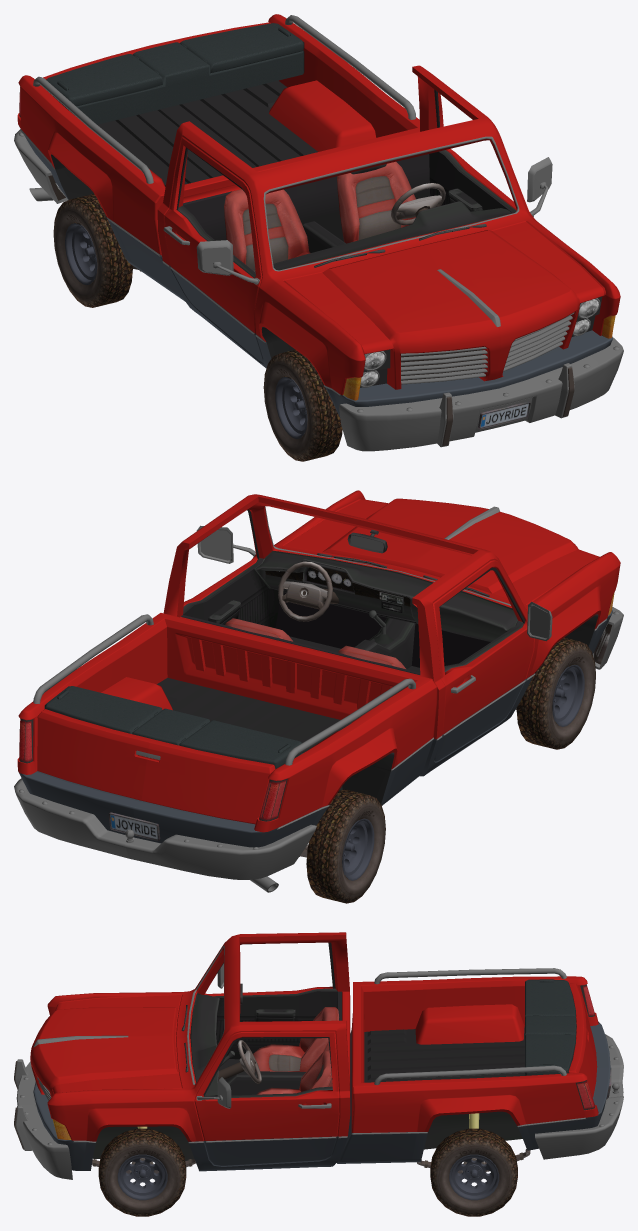
The model's file is offroad0.glb.
3 renders of one model, top to bottom at view 1: azimuth 30°, elevation 25°; view 2: azimuth 150°, elevation 25°; view 3: azimuth 270°, elevation 25°, orthographic. The views are drawn at different scales.
Visible parts, largest first — view 1: node_id912, node_id914, node_id928, node_id887, node_id916, node_id901, node_id910, node_id879, node_id872, node_id874, node_id881, node_id870 (+11 smaller); view 2: node_id912, node_id914, node_id916, node_id892, node_id928, node_id879, node_id872, node_id903, node_id874, node_id881, node_id870, node_id877 (+8 smaller); view 3: node_id912, node_id914, node_id916, node_id928, node_id901, node_id892, node_id887, node_id858, node_id865, node_id860, node_id867, node_id856 (+8 smaller).
Boxes of the visible parts, box(x1,y1,x2,y2) form: node_id912: box(17, 14, 620, 395); node_id914: box(51, 80, 602, 387); node_id928: box(46, 23, 304, 124); node_id887: box(339, 337, 623, 451); node_id916: box(19, 126, 612, 417); node_id901: box(224, 161, 415, 271); node_id910: box(20, 129, 600, 396); node_id879: box(53, 194, 132, 307); node_id872: box(263, 349, 342, 461); node_id874: box(264, 362, 311, 454); node_id881: box(54, 208, 101, 300); node_id870: box(275, 377, 322, 439); node_id912: box(17, 490, 620, 832); node_id914: box(157, 509, 598, 803); node_id916: box(18, 571, 612, 847); node_id892: box(14, 778, 316, 879); node_id928: box(44, 686, 304, 768); node_id879: box(306, 789, 385, 903); node_id872: box(516, 637, 595, 749); node_id903: box(278, 561, 332, 621); node_id874: box(528, 650, 595, 742); node_id881: box(338, 804, 385, 896); node_id870: box(536, 664, 584, 726); node_id877: box(331, 818, 374, 880); node_id912: box(30, 932, 598, 1141); node_id914: box(93, 942, 524, 1160); node_id916: box(33, 1022, 610, 1171); node_id928: box(525, 979, 576, 1075); node_id901: box(253, 1007, 338, 1094); node_id892: box(535, 1034, 623, 1159); node_id887: box(15, 1059, 72, 1179); node_id858: box(98, 1128, 186, 1216); node_id865: box(430, 1128, 517, 1216); node_id860: box(105, 1145, 179, 1212); node_id867: box(436, 1145, 511, 1212); node_id856: box(117, 1154, 167, 1200).
Bounding box in the file's own units: 0.512 × 0.3249 × 0.9686.
46 materials, 46 textured.
